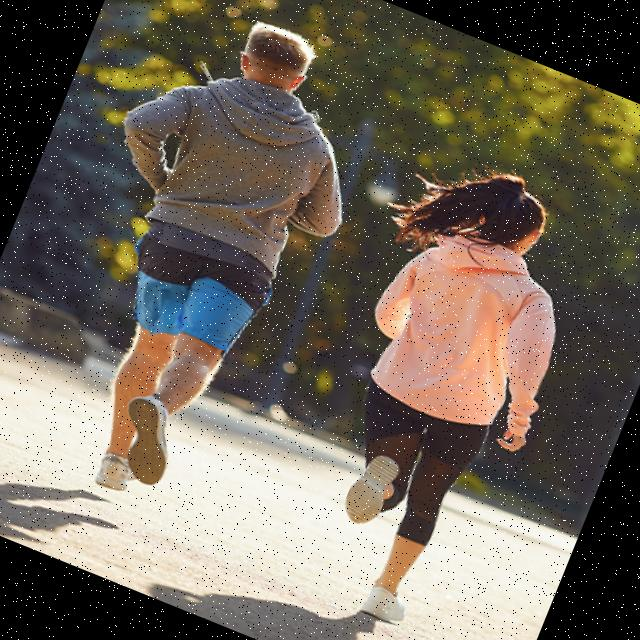Person: (0, 0, 401, 533), (268, 145, 616, 640)
